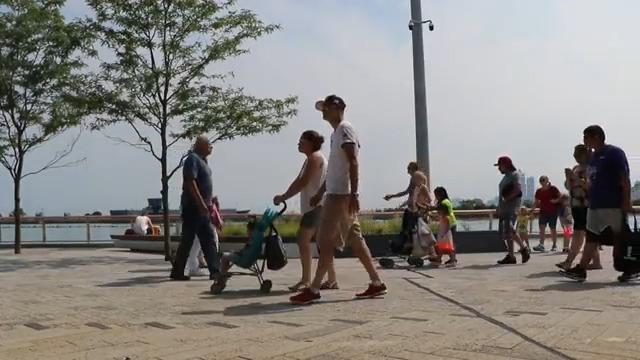no-helmet: (314, 94, 346, 122), (297, 130, 324, 155), (583, 125, 605, 149), (493, 155, 517, 174), (194, 136, 214, 158)
